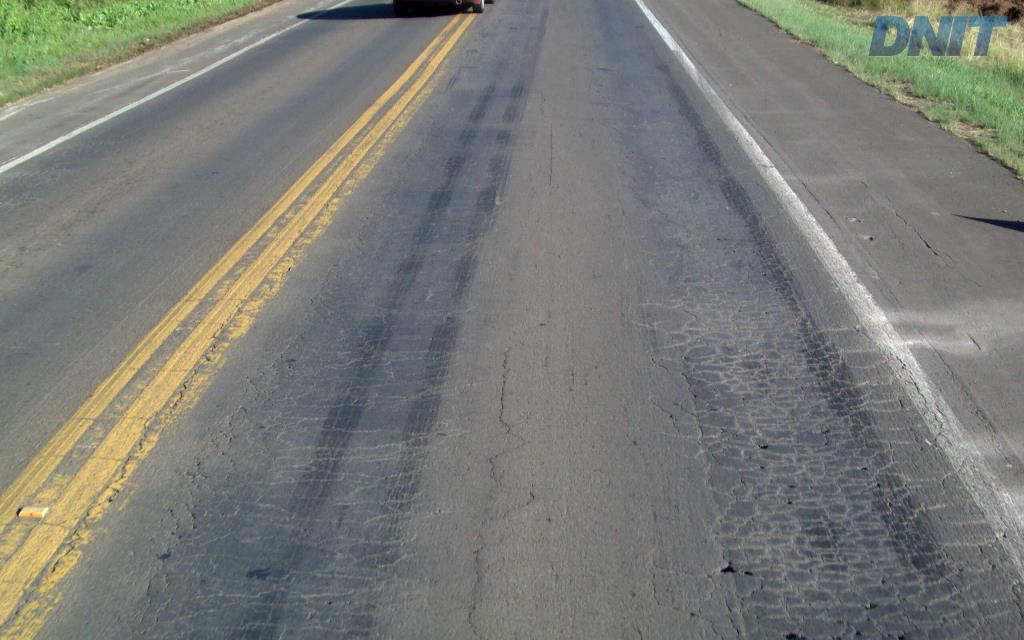crack: (720, 559, 773, 598)
pothole: (713, 560, 736, 576), (780, 627, 811, 638), (741, 566, 756, 577), (755, 439, 771, 449)
